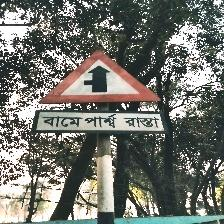Side-road-left: (32, 51, 168, 136)
